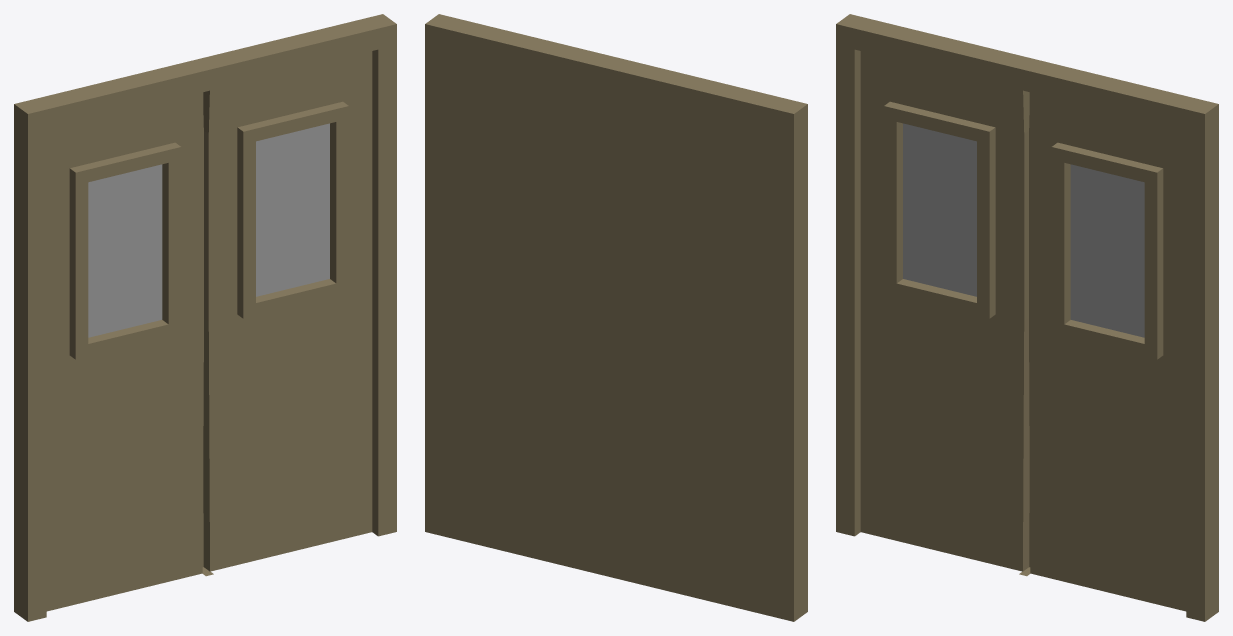
Rendered from obj_door_y.fbx.
3 views of the same model, side by side, from view 1: azimuth 30°, elevation 25°; view 2: azimuth 150°, elevation 25°; view 3: azimuth 330°, elevation 25° (orthographic).
Parts seen in each view (by area): view 1: obj_door_y; view 2: obj_door_y; view 3: obj_door_y.
Boxes of the visible parts, left/top/right/bottom form: obj_door_y: left=14, top=14, right=396, bottom=621; obj_door_y: left=425, top=14, right=807, bottom=621; obj_door_y: left=836, top=14, right=1218, bottom=621.
Size of the model in its own units: 1.59 by 2.09 by 0.1025.
2 materials, 1 textured.
